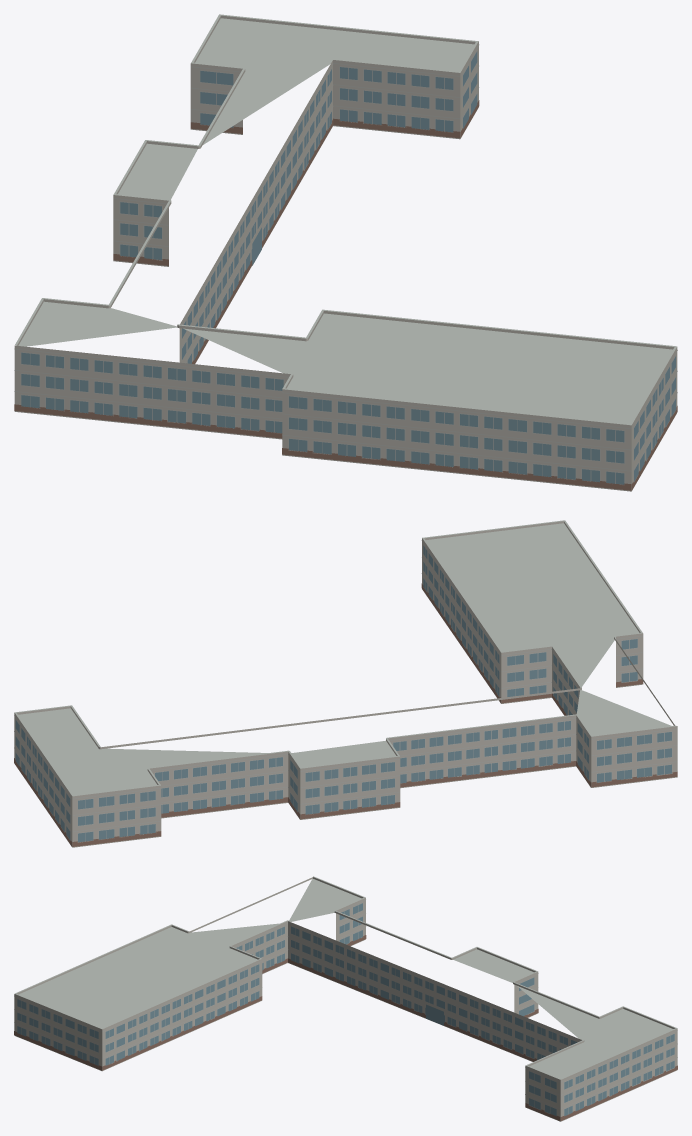
Rendered from public-1788c703-e7e6-45a0-bf3c-3f2141b79036.glb.
3 views of the same model, one above another, from view 1: azimuth 30°, elevation 25°; view 2: azimuth 150°, elevation 25°; view 3: azimuth 270°, elevation 25° (orthographic). The views are drawn at different scales.
Visible parts, largest first — view 1: public-1788c703-e7e6-45a0-bf3c-3f2141b79036; view 2: public-1788c703-e7e6-45a0-bf3c-3f2141b79036; view 3: public-1788c703-e7e6-45a0-bf3c-3f2141b79036.
Part boxes in pixels (x1,y1,x2,y2): public-1788c703-e7e6-45a0-bf3c-3f2141b79036: [14, 14, 677, 491]; public-1788c703-e7e6-45a0-bf3c-3f2141b79036: [14, 520, 677, 847]; public-1788c703-e7e6-45a0-bf3c-3f2141b79036: [14, 876, 677, 1121].
Bounding box in the file's own units: 95.43 × 9.15 × 131.
